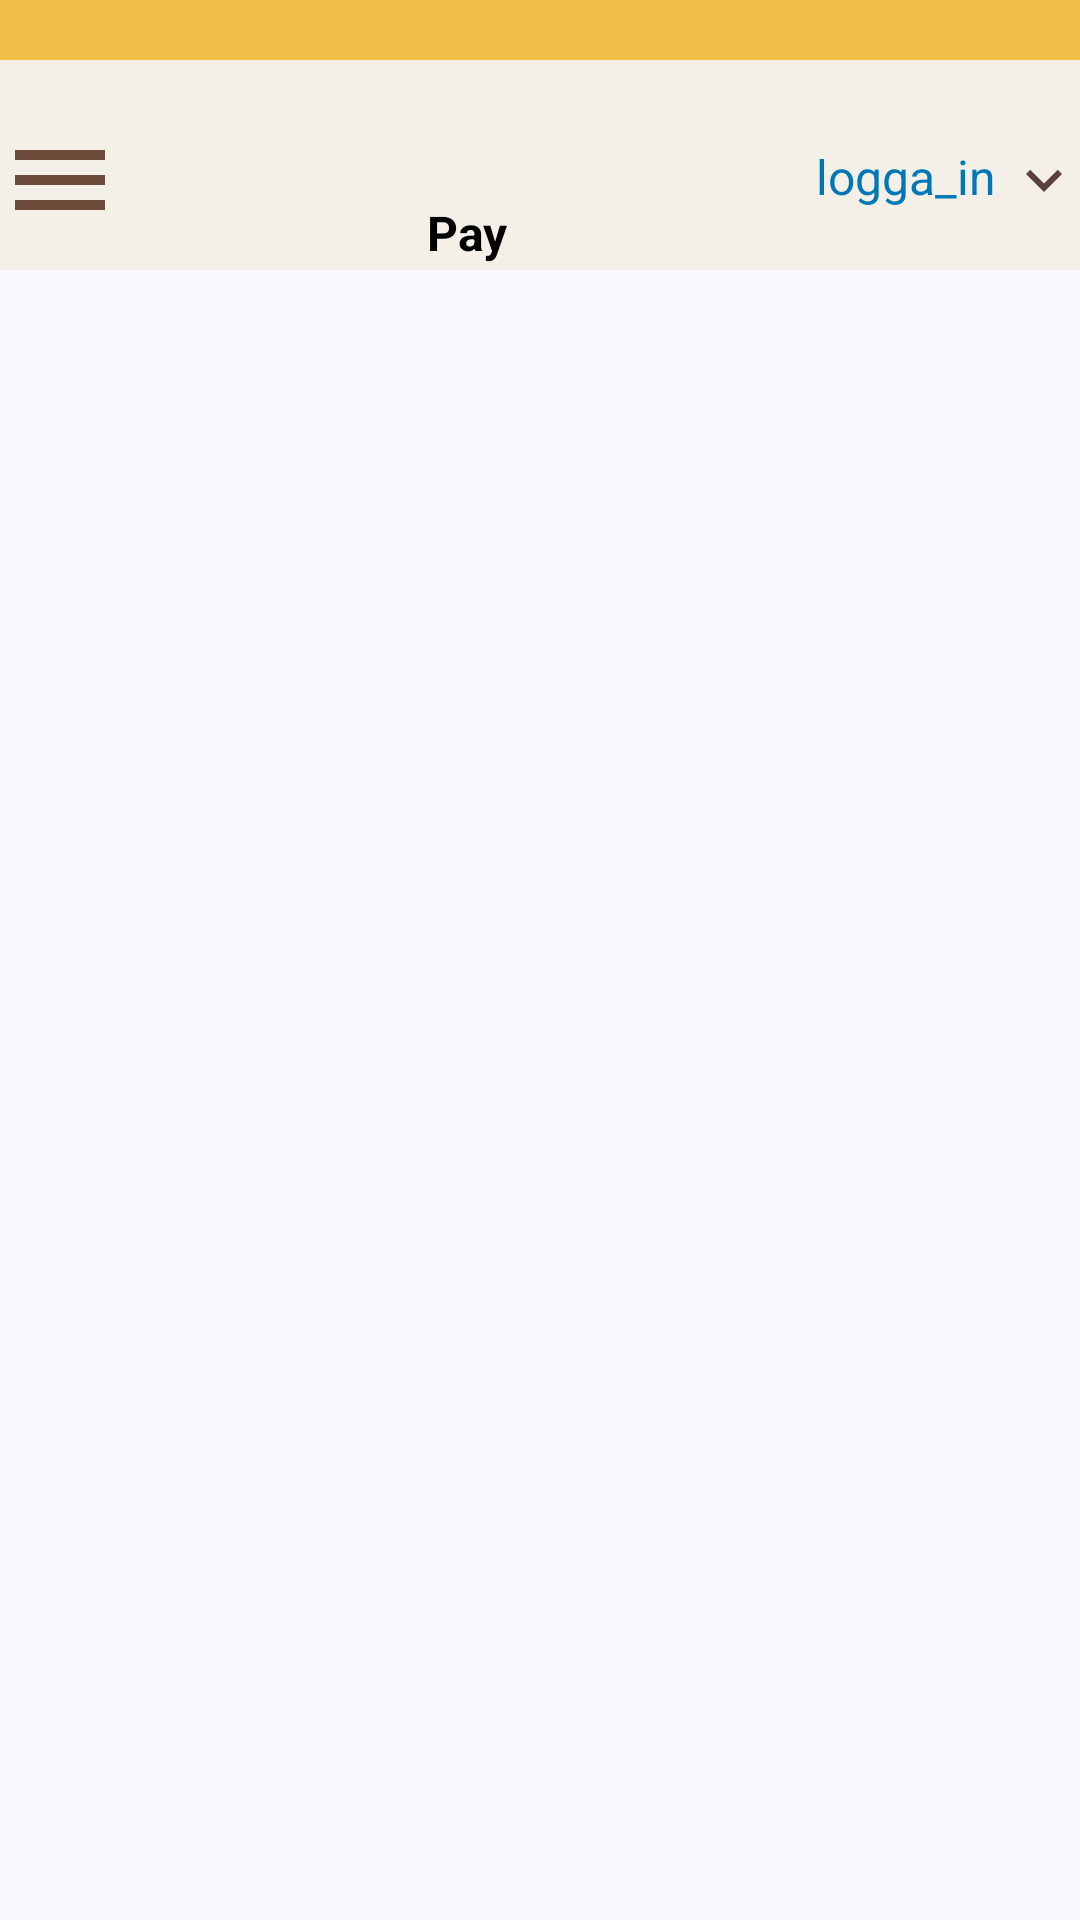

Where icons sit on this 1080 x 1920 app screen, as (x1, y1, x2, y2):
menu: (15, 150, 105, 210)
